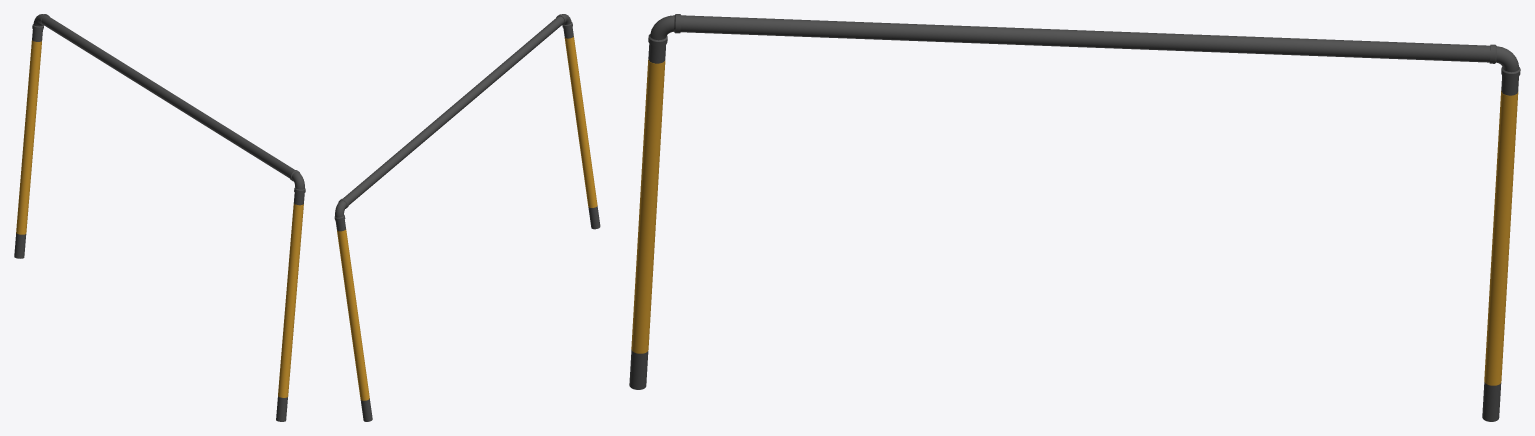
Rendered from bramka.fbx.
The picture shows the model from 3 angles, left to right: view 1: azimuth 30°, elevation 25°; view 2: azimuth 150°, elevation 25°; view 3: azimuth 270°, elevation 25°; orthographic projection. The views are drawn at different scales.
Visible parts, largest first — view 1: mesh_16_Fillet2, mesh_11_Cut-Extrude3; view 2: mesh_16_Fillet2, mesh_11_Cut-Extrude3; view 3: mesh_16_Fillet2, mesh_11_Cut-Extrude3.
Part boxes in pixels (left/top/right/bottom): mesh_16_Fillet2: left=14, top=14, right=305, bottom=421; mesh_11_Cut-Extrude3: left=16, top=40, right=303, bottom=397; mesh_16_Fillet2: left=334, top=14, right=600, bottom=421; mesh_11_Cut-Extrude3: left=337, top=36, right=597, bottom=400; mesh_16_Fillet2: left=629, top=14, right=1520, bottom=421; mesh_11_Cut-Extrude3: left=631, top=59, right=1518, bottom=385.
Bounding box in the file's own units: 28.63 × 169 × 318.
